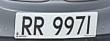1: (84, 13, 92, 37)
7: (75, 13, 86, 37)
9: (52, 14, 64, 37), (64, 14, 75, 37)
R: (21, 13, 34, 38), (32, 14, 46, 37)
